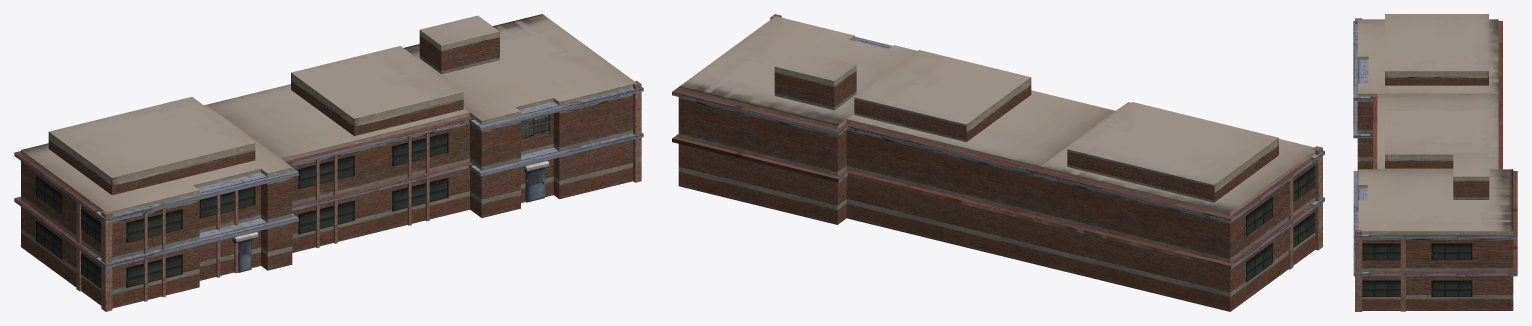
Rendered from ind-warehouse-4.lod0.glb.
The picture shows the model from 3 angles, left to right: view 1: azimuth 30°, elevation 25°; view 2: azimuth 150°, elevation 25°; view 3: azimuth 270°, elevation 25°; orthographic projection. The views are drawn at different scales.
Parts seen in each view (by area): view 1: Industrial_Warehouse_4_Industrial_Facade_Flr_1_0; view 2: Industrial_Warehouse_4_Industrial_Facade_Flr_1_0; view 3: Industrial_Warehouse_4_Industrial_Facade_Flr_1_0.
Boxes of the visible parts, x1=… form: Industrial_Warehouse_4_Industrial_Facade_Flr_1_0: x1=14, y1=14, x2=643, y2=311; Industrial_Warehouse_4_Industrial_Facade_Flr_1_0: x1=672, y1=14, x2=1324, y2=311; Industrial_Warehouse_4_Industrial_Facade_Flr_1_0: x1=1353, y1=14, x2=1517, y2=311.
Bounding box in the file's own units: 42.08 × 9.38 × 13.59.
1 material, 1 textured.
